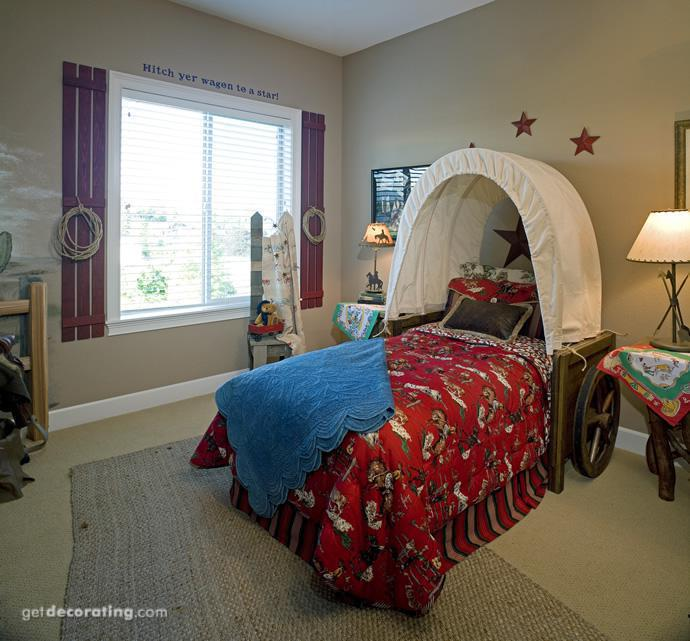Cama: (216, 302, 582, 526)
Ventana: (106, 67, 295, 317)
